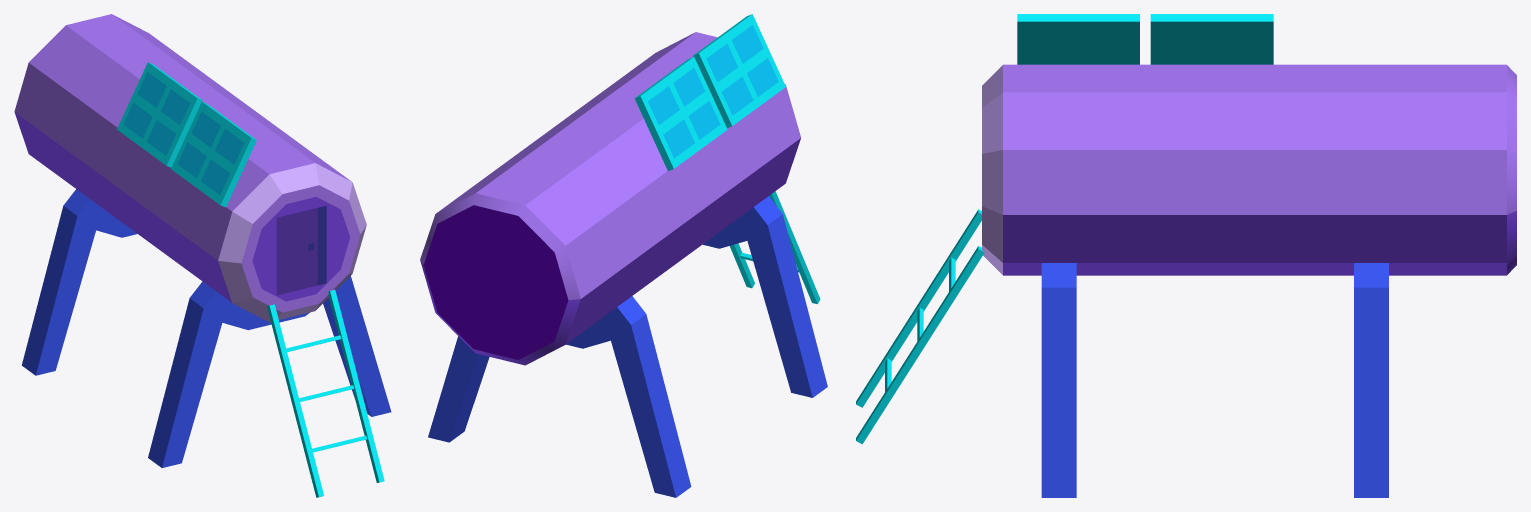
File: Building_014_b.fbx
3 views of the same model, side by side, from view 1: azimuth 30°, elevation 25°; view 2: azimuth 150°, elevation 25°; view 3: azimuth 270°, elevation 25° (orthographic). The views are drawn at different scales.
Visible parts, largest first — view 1: Building_014_b; view 2: Building_014_b; view 3: Building_014_b.
Boxes of the visible parts, <box> form: Building_014_b: <box>14,14,391,497</box>; Building_014_b: <box>420,14,827,497</box>; Building_014_b: <box>856,14,1516,497</box>.
Size of the model in its own units: 8.79 by 11.64 by 17.72.
